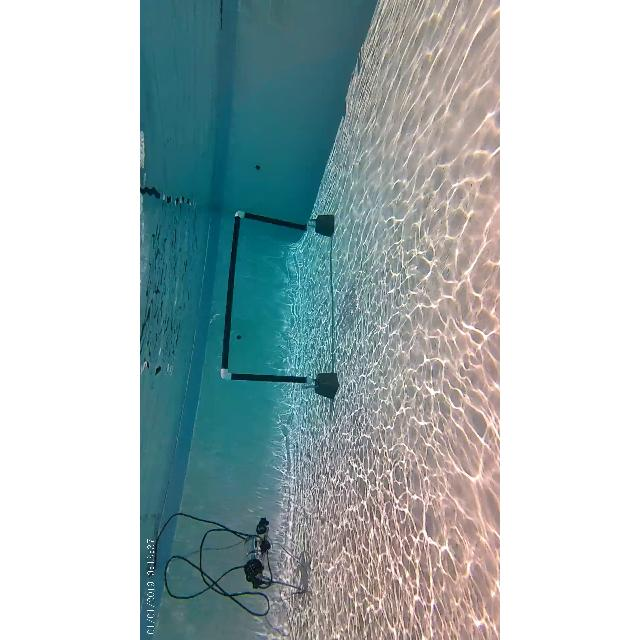prequal gate: (220, 210, 316, 384)
prequal gate leg l: (218, 364, 318, 392)
prequal gate leg r: (231, 204, 317, 236)
